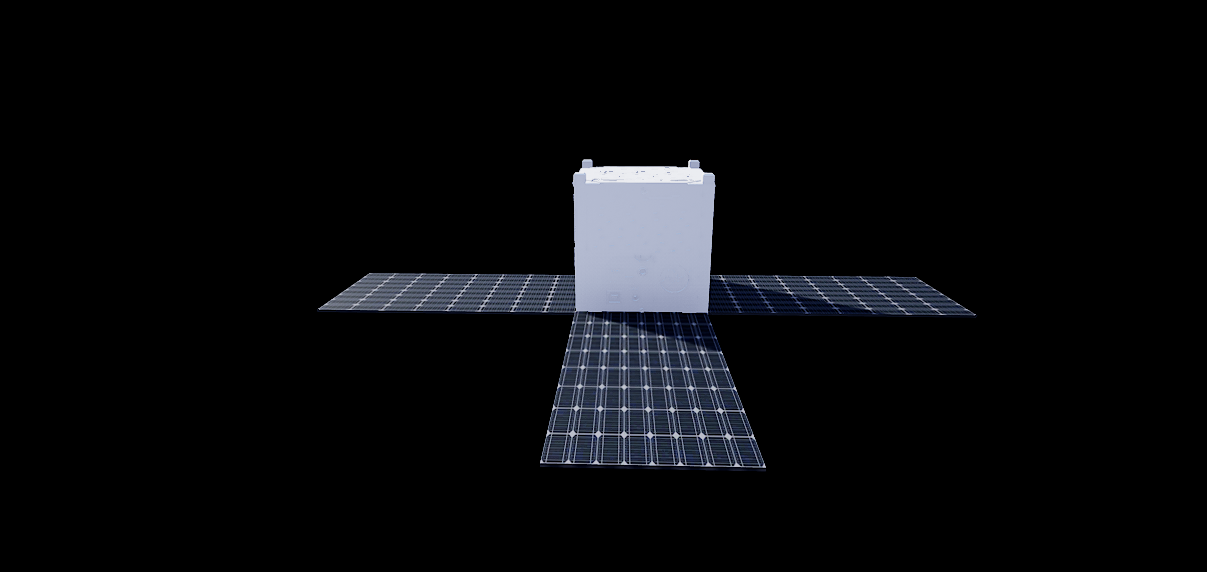satellite: (306, 145, 982, 478)
